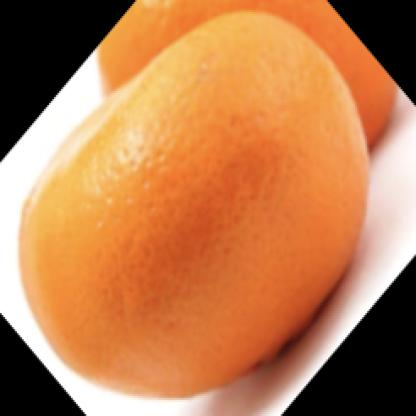fresh: (16, 14, 368, 400)
